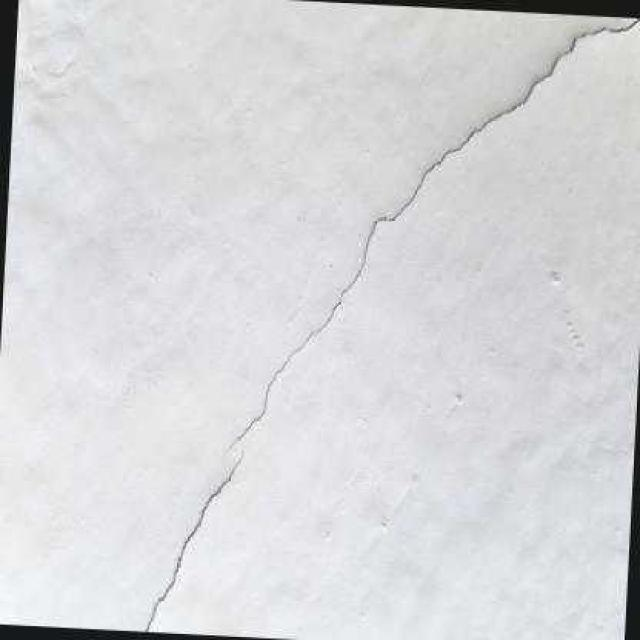D00: (224, 16, 640, 448), (142, 442, 242, 631)
